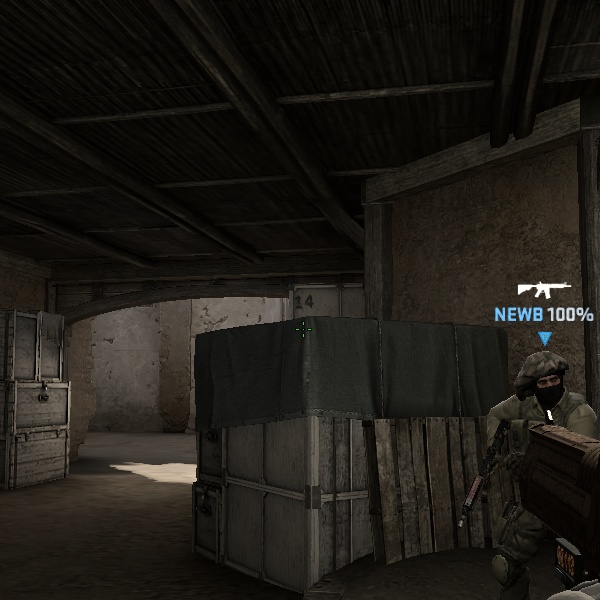ct_body: (460, 342, 592, 595)
ct_head: (513, 345, 582, 414)
